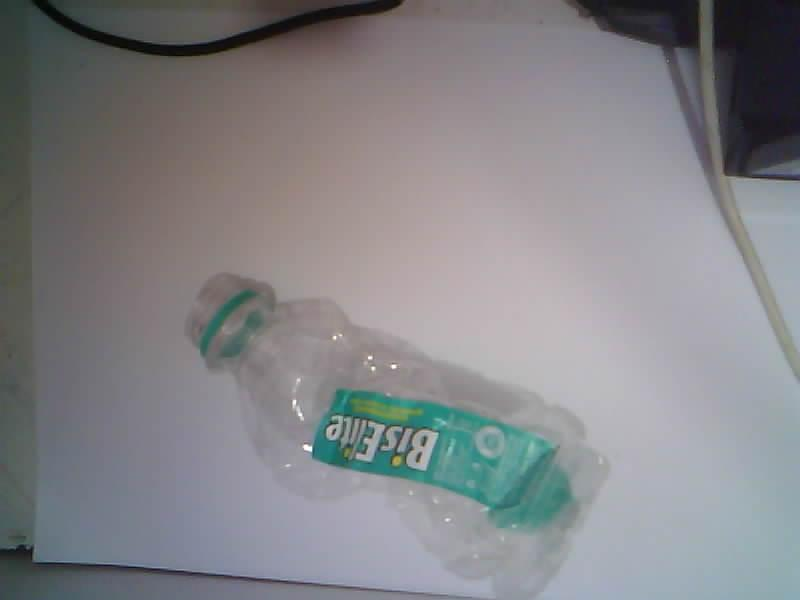non-biodegradable: (189, 275, 606, 599)
